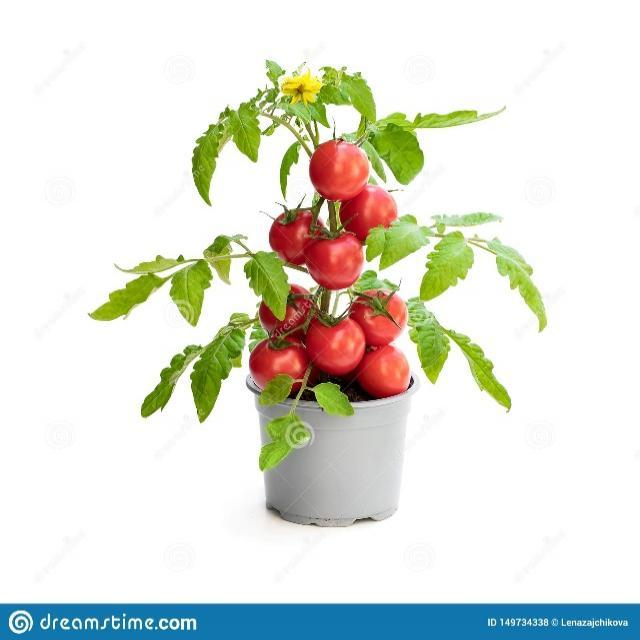plant: (90, 61, 548, 470)
